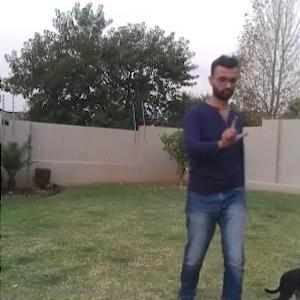land_hand: (219, 111, 249, 154)
